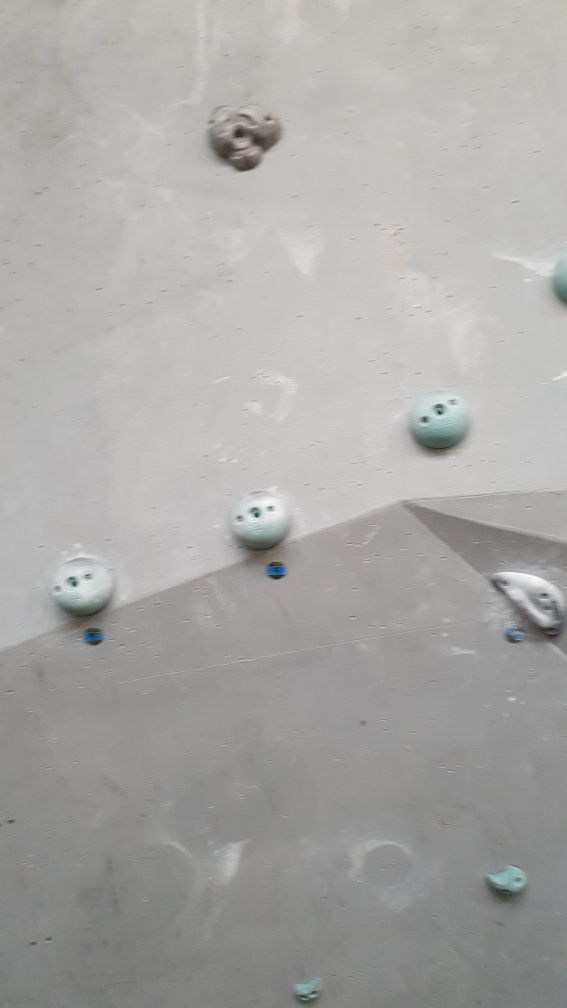Hand Start: (266, 558, 287, 581), (82, 627, 102, 648), (506, 627, 526, 643)
Jug: (205, 101, 284, 174)
Sloper: (408, 387, 473, 452), (52, 555, 114, 617), (232, 490, 294, 549)
